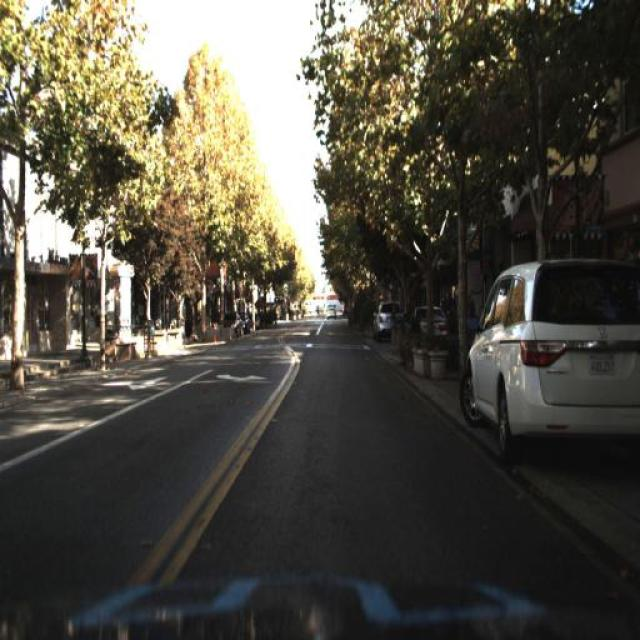car: (456, 247, 632, 462), (369, 296, 402, 349), (410, 296, 444, 342)
